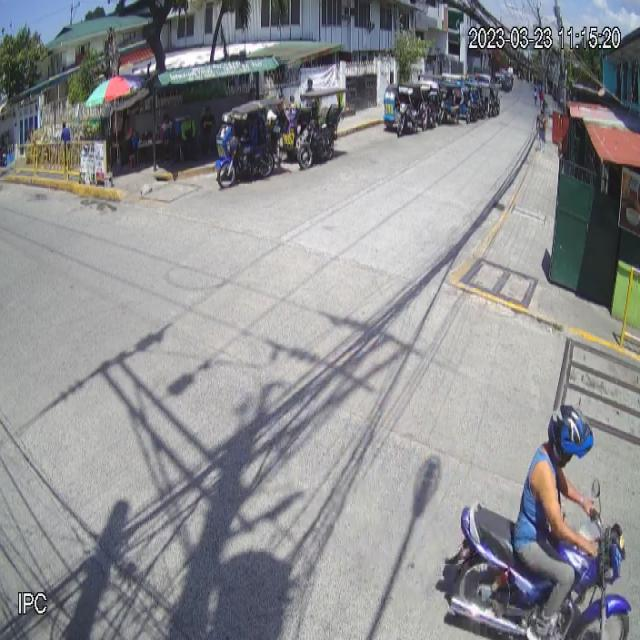Motorcycle: (442, 476, 633, 640)
